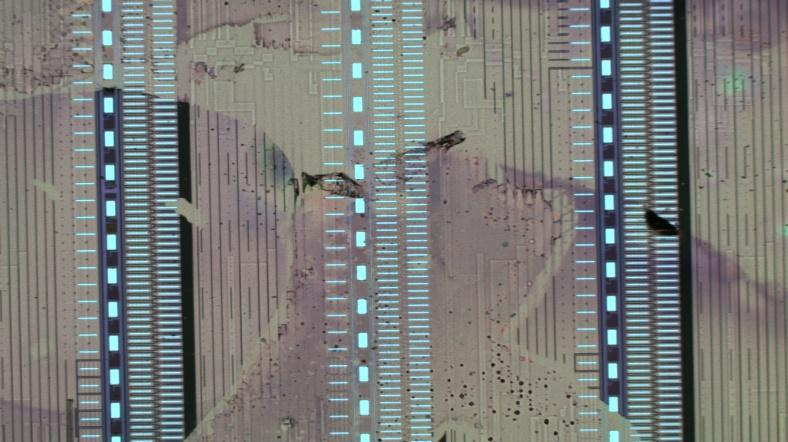BLOCK ETCH: (1, 1, 788, 442)
